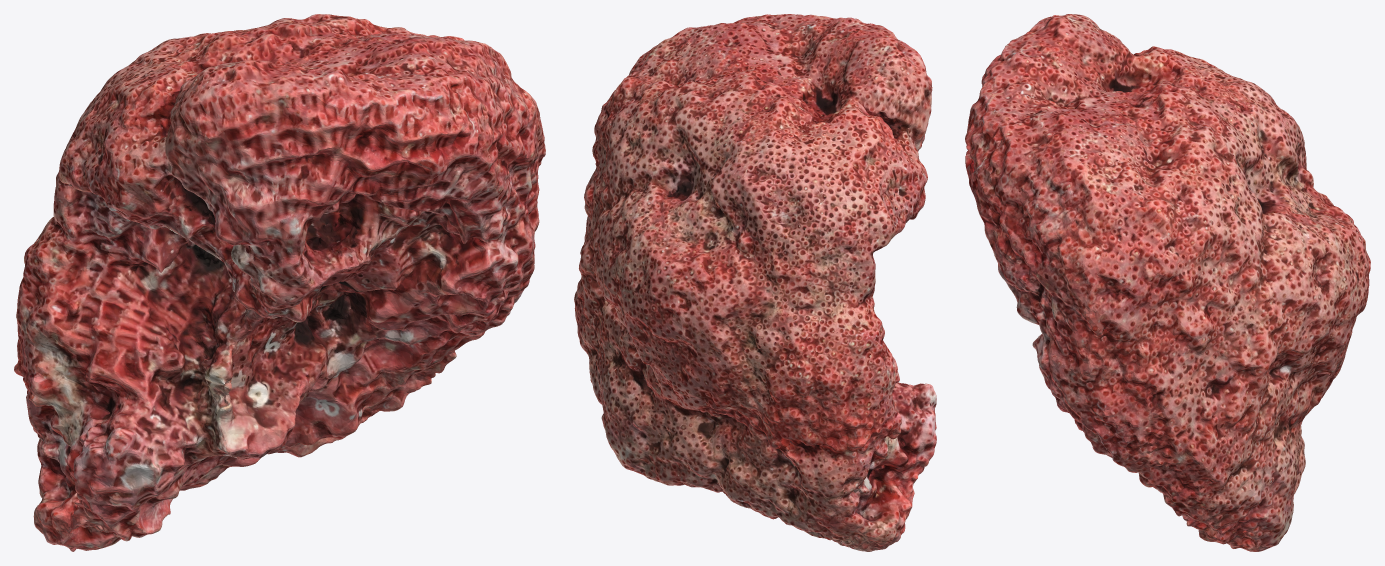
The model's file is MZUR3D-028.glb.
3 renders of one model, left to right at view 1: azimuth 30°, elevation 25°; view 2: azimuth 150°, elevation 25°; view 3: azimuth 270°, elevation 25°, orthographic. The views are drawn at different scales.
Parts seen in each view (by area): view 1: MZUR3D-028; view 2: MZUR3D-028; view 3: MZUR3D-028.
Boxes of the visible parts, left/top/right/bottom form: MZUR3D-028: left=14, top=14, right=545, bottom=551; MZUR3D-028: left=574, top=14, right=936, bottom=551; MZUR3D-028: left=965, top=14, right=1370, bottom=551.
Bounding box in the file's own units: 0.977 × 1.15 × 0.8731.
Materials: 1 (1 with a texture image).
